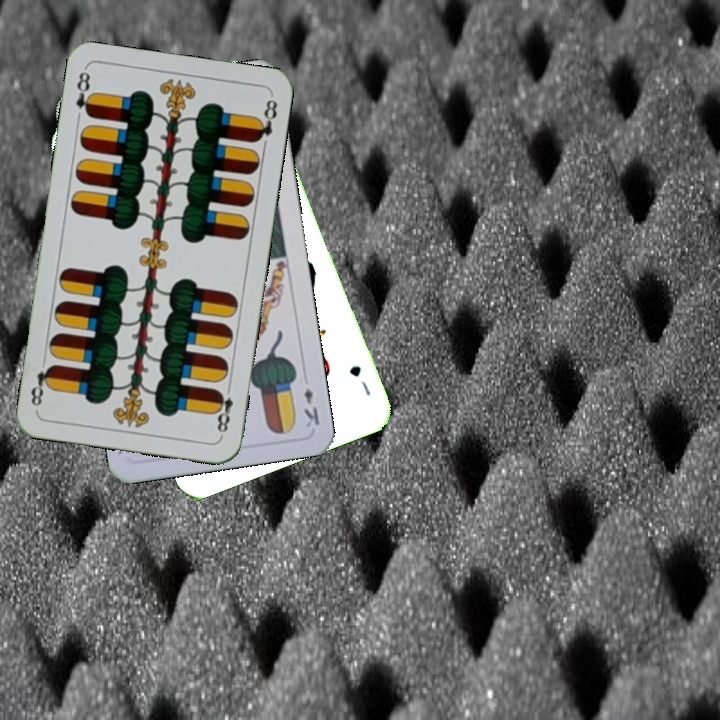E8: (211, 380, 236, 439), (71, 66, 97, 120)
EK: (299, 383, 322, 430)
GU: (345, 361, 374, 398)
